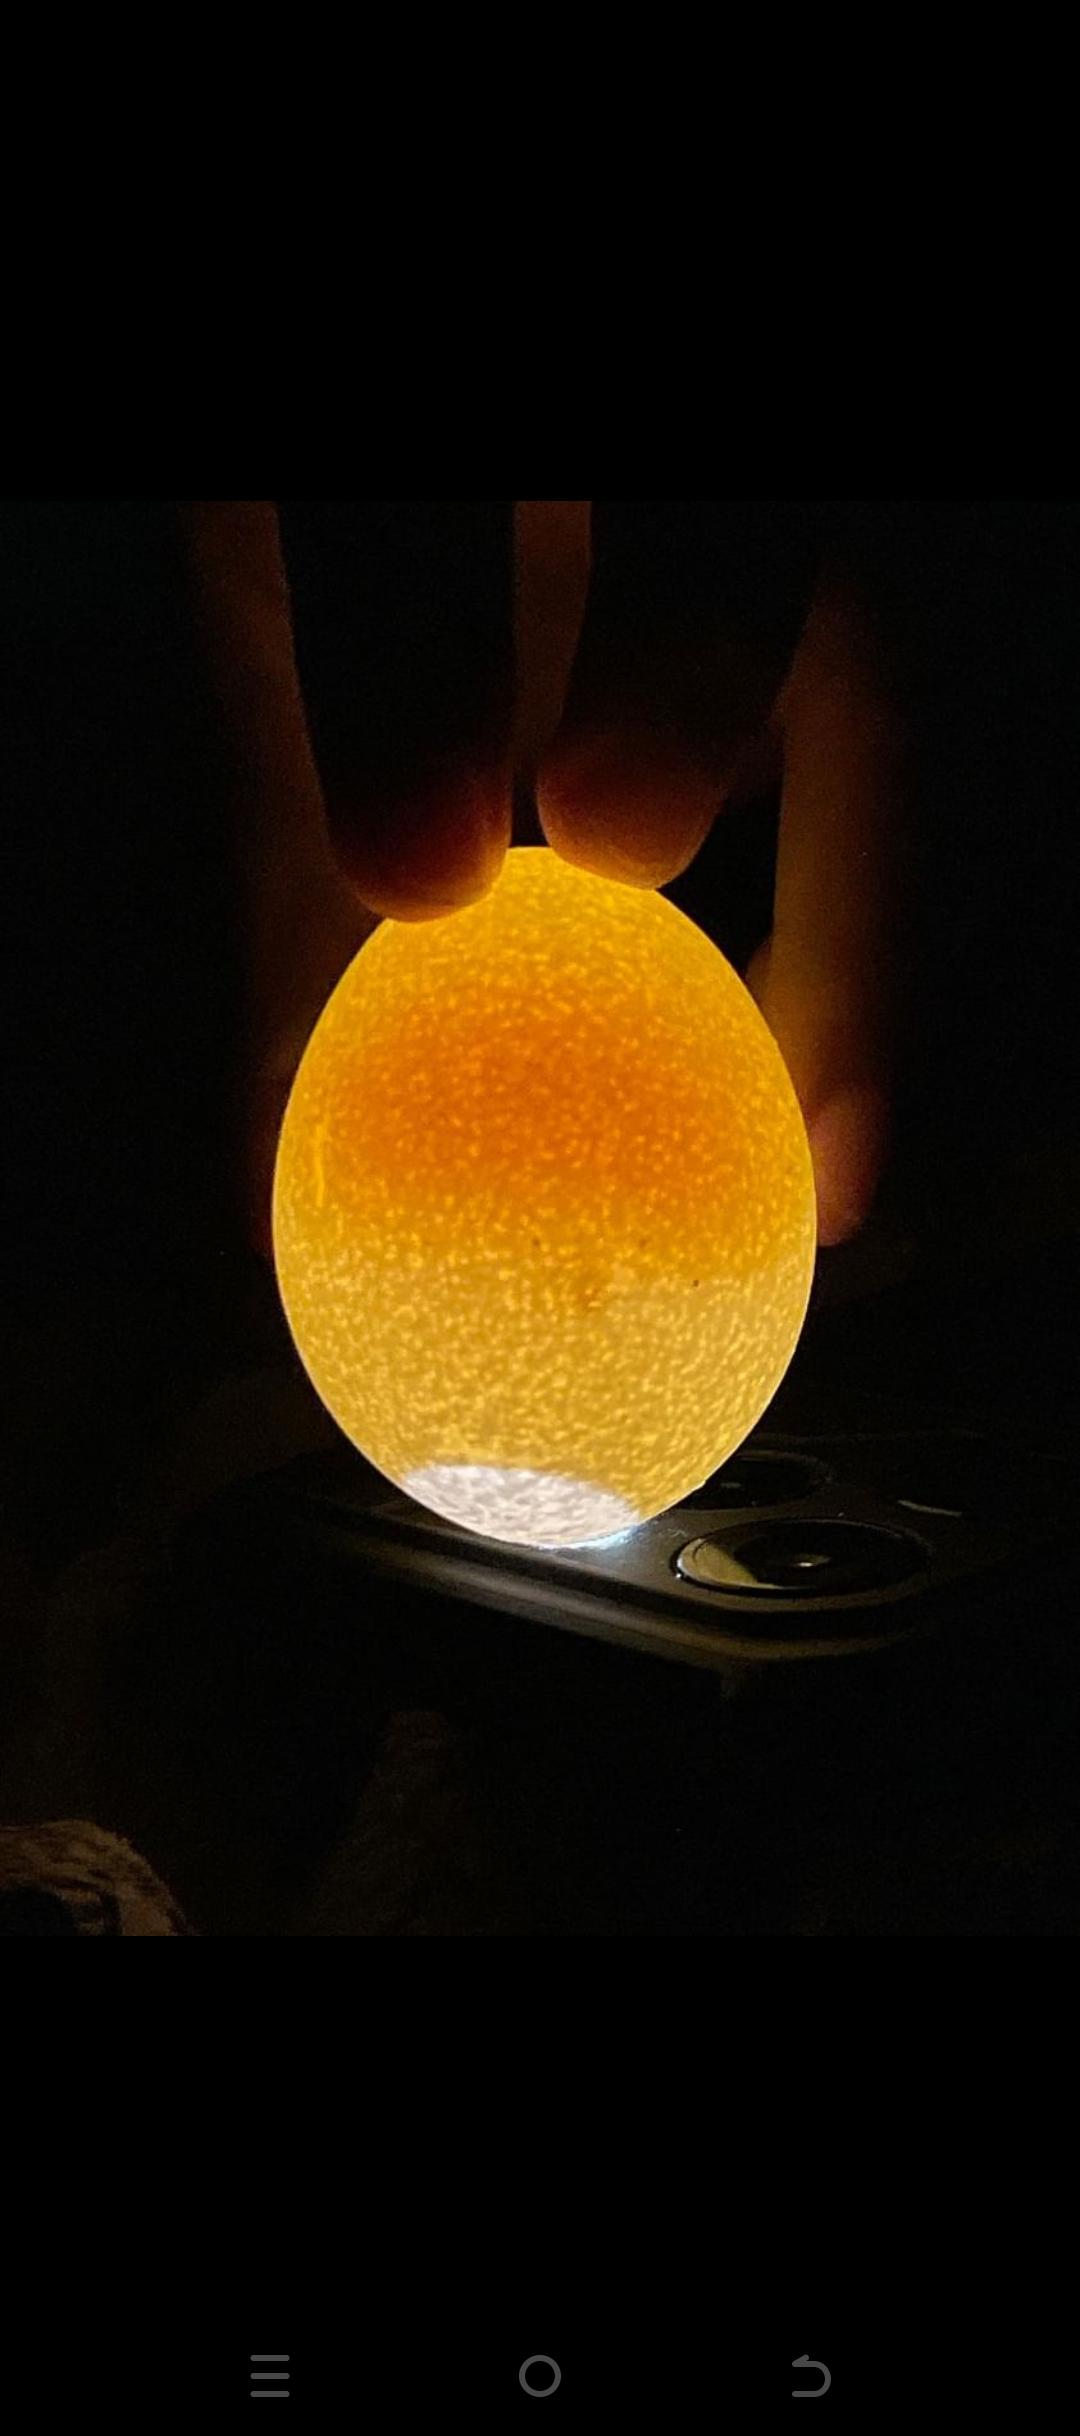A - Good: (236, 817, 827, 1597)
